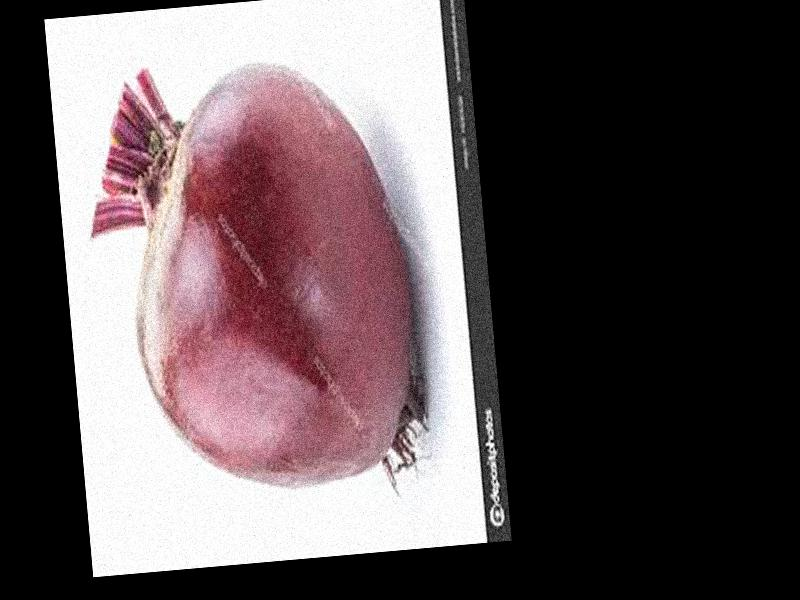Beet: (81, 50, 427, 502)
